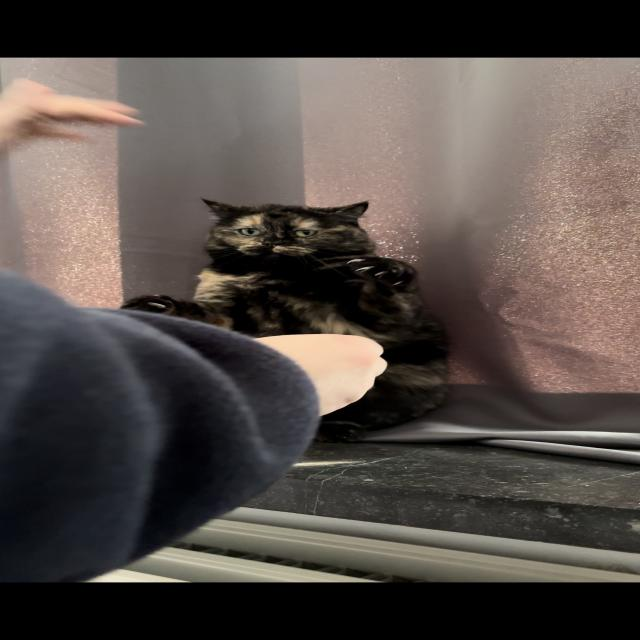authorized: (120, 197, 452, 442)
